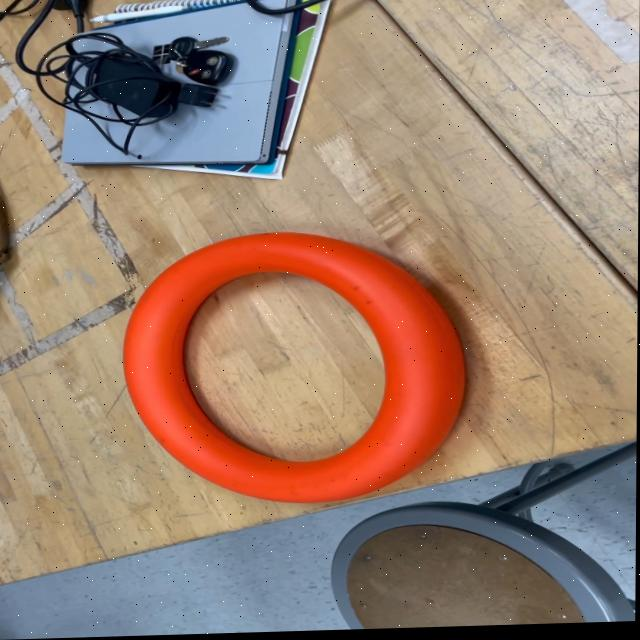note: (124, 233, 474, 512)
